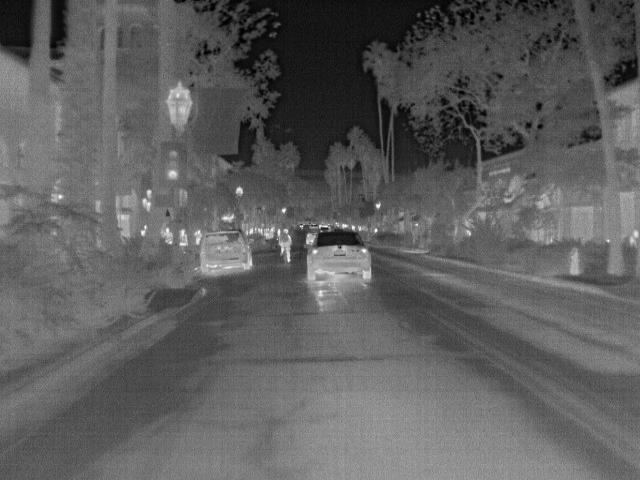car: (305, 224, 376, 283), (196, 226, 258, 274)
person: (275, 227, 292, 262), (163, 224, 178, 248), (177, 228, 192, 247)
